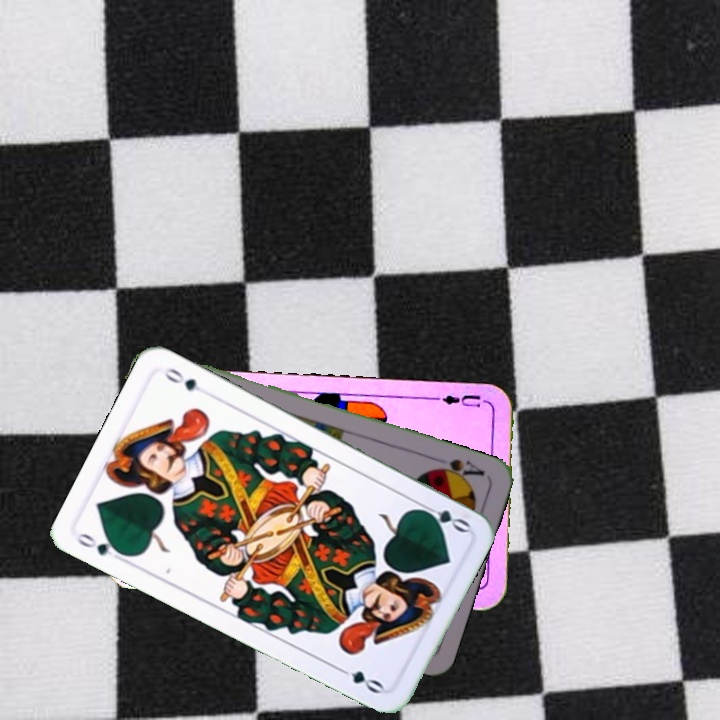EU: (433, 390, 492, 410)
GO: (414, 499, 472, 536), (73, 528, 131, 565)
SA: (428, 454, 487, 484)
